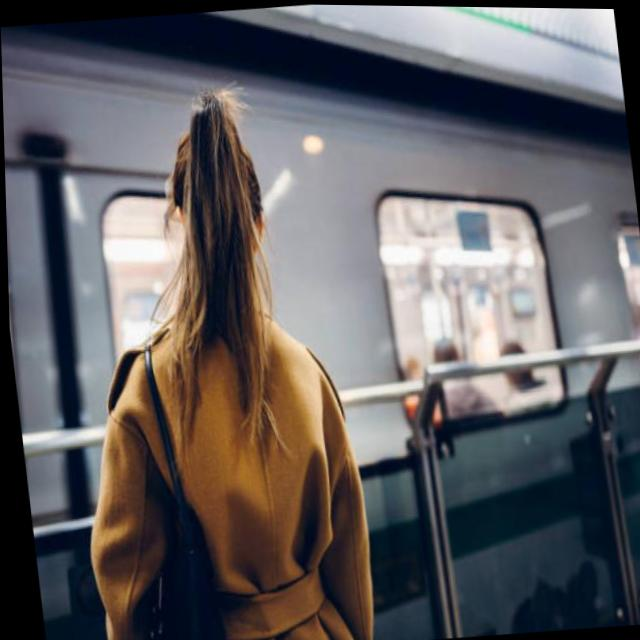no helmet: (141, 101, 285, 323)
